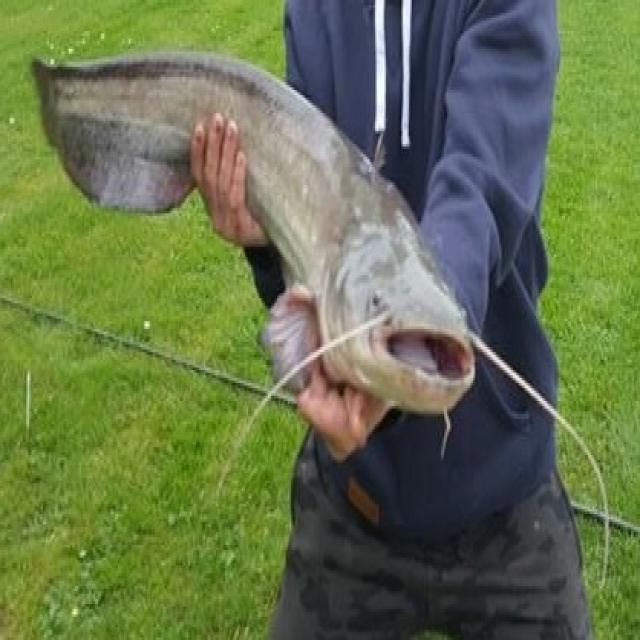Catfish: (26, 34, 488, 503)
